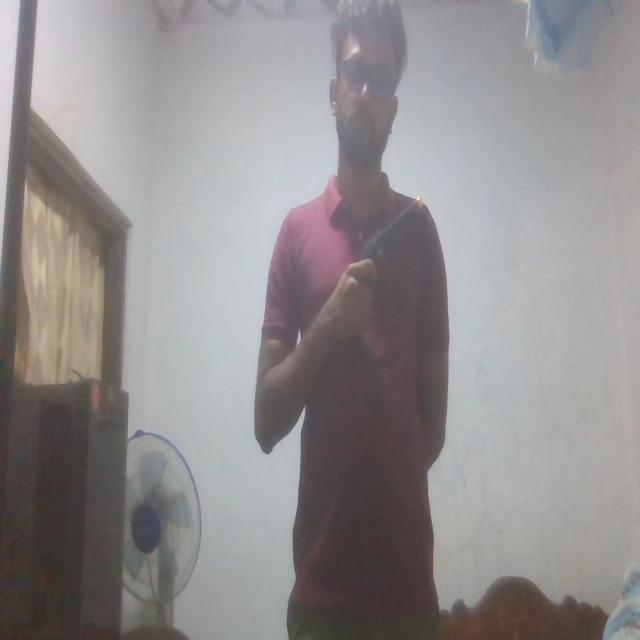Gun_Holder: (337, 194, 429, 318)
Person: (261, 0, 451, 640)
